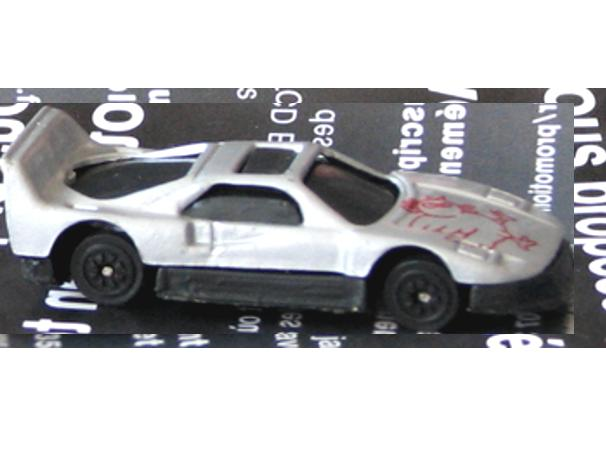toy-car: (0, 103, 574, 334)
